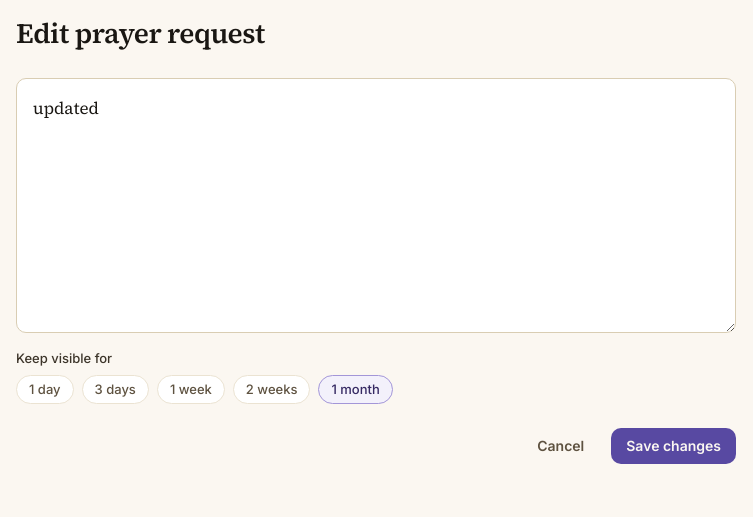
it: EditPostPage › Save with generic error shows the message, keeps the buffer, does not navigate
Expected: the text box named "body" is shown, left=16, top=78, right=736, bottom=333
Click the button "Save changes" at (674, 446), box left=611, top=428, right=736, bottom=464
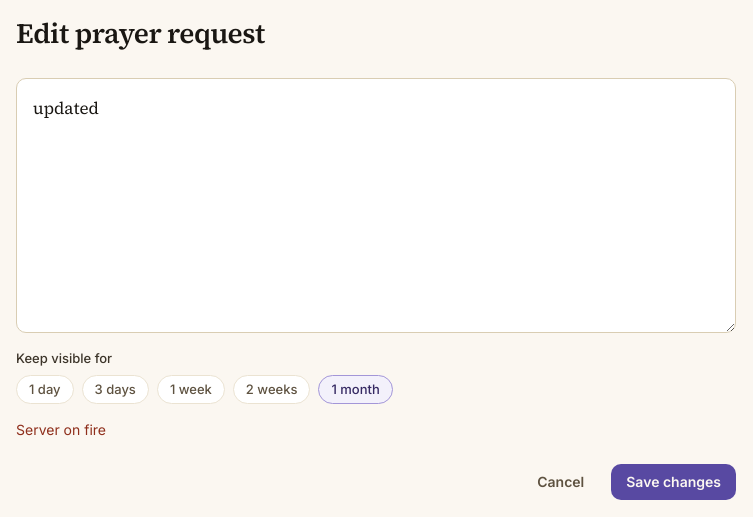
Expected: the text "Server on fire" is shown, left=16, top=421, right=106, bottom=438
